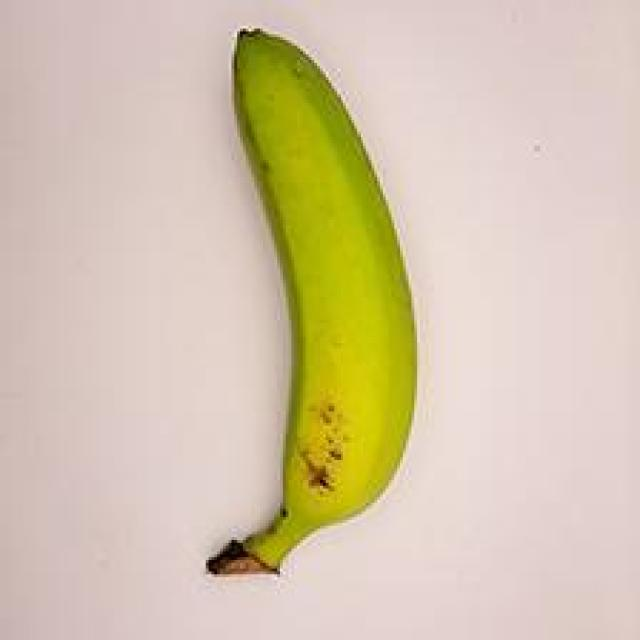Unripe: (145, 10, 468, 612)
